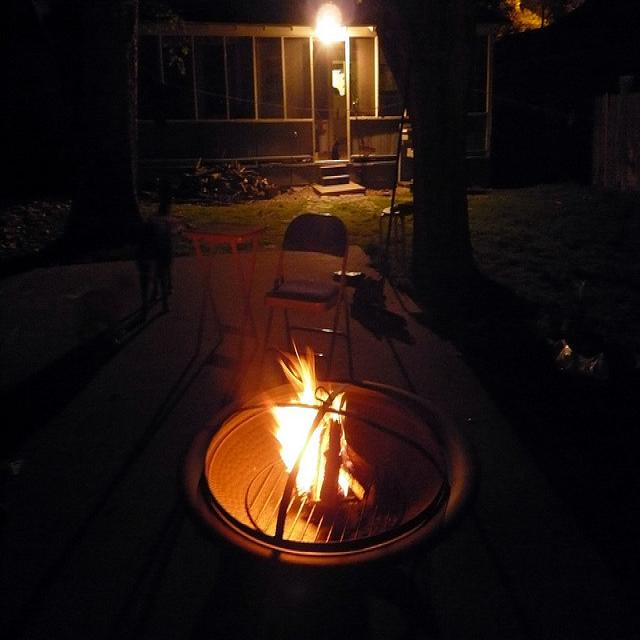Dog: (72, 129, 197, 340)
